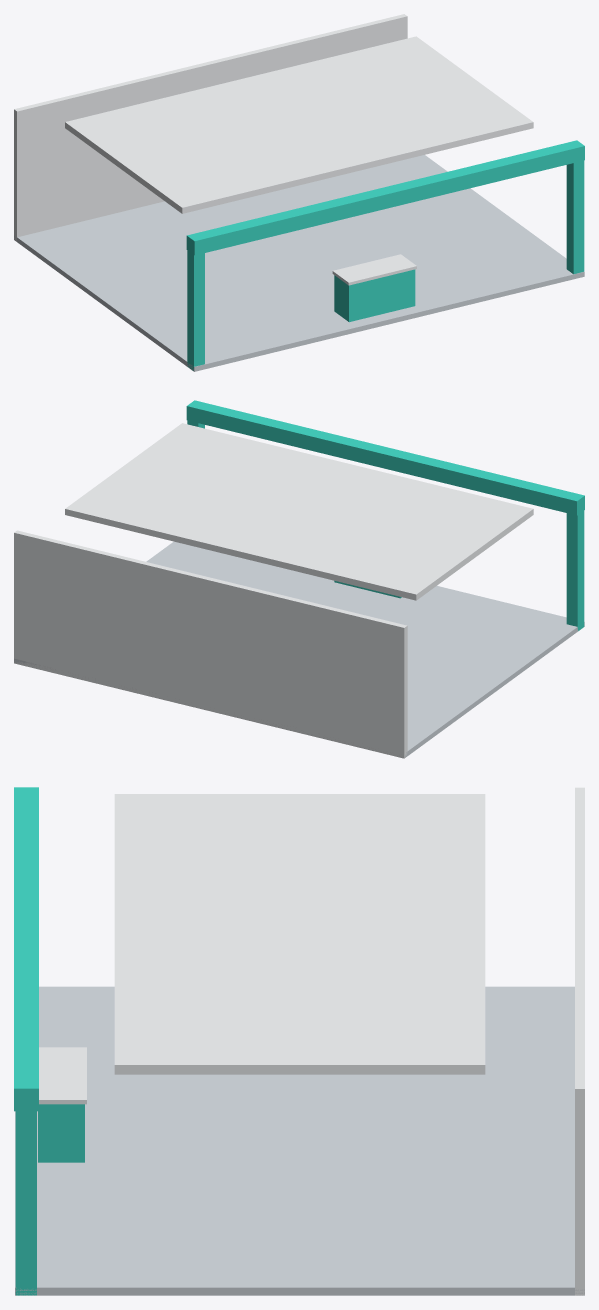
3 renders of one model, top to bottom at view 1: azimuth 30°, elevation 25°; view 2: azimuth 150°, elevation 25°; view 3: azimuth 270°, elevation 25°, orthographic. The views are drawn at different scales.
Visible parts, largest first — view 1: Exhibition Booth Concept; view 2: Exhibition Booth Concept; view 3: Exhibition Booth Concept.
Boxes of the visible parts, box(x1,y1,x2,y2) form: Exhibition Booth Concept: box(14, 14, 584, 371); Exhibition Booth Concept: box(14, 400, 584, 758); Exhibition Booth Concept: box(14, 787, 584, 1295).
Size of the model in its own units: 10 by 3.34 by 8.01.
